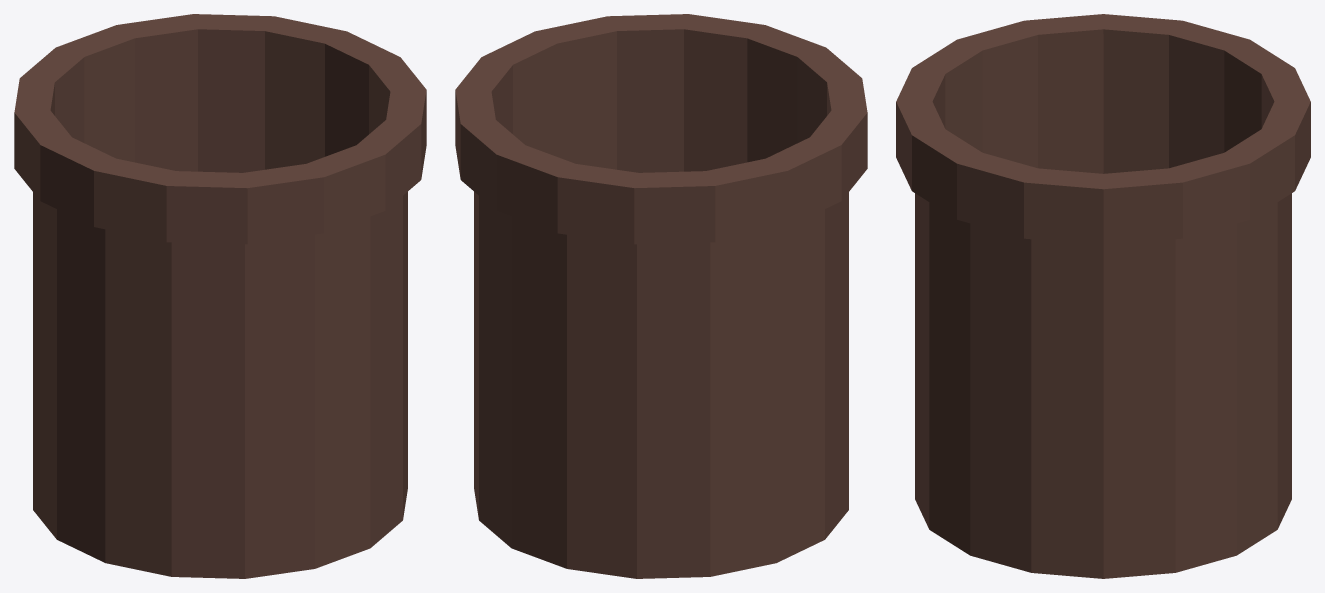
File: Bin.fbx
3 renders of one model, left to right at view 1: azimuth 30°, elevation 25°; view 2: azimuth 150°, elevation 25°; view 3: azimuth 270°, elevation 25°, orthographic.
Visible parts, largest first — view 1: Bin.003; view 2: Bin.003; view 3: Bin.003.
Part boxes in pixels (<box>): Bin.003: <box>14,14,426,578</box>; Bin.003: <box>455,14,867,578</box>; Bin.003: <box>896,14,1310,578</box>.
Bounding box in the file's own units: 96.86 × 103 × 96.86.
